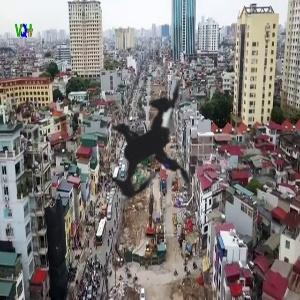drone: (49, 36, 267, 254)
